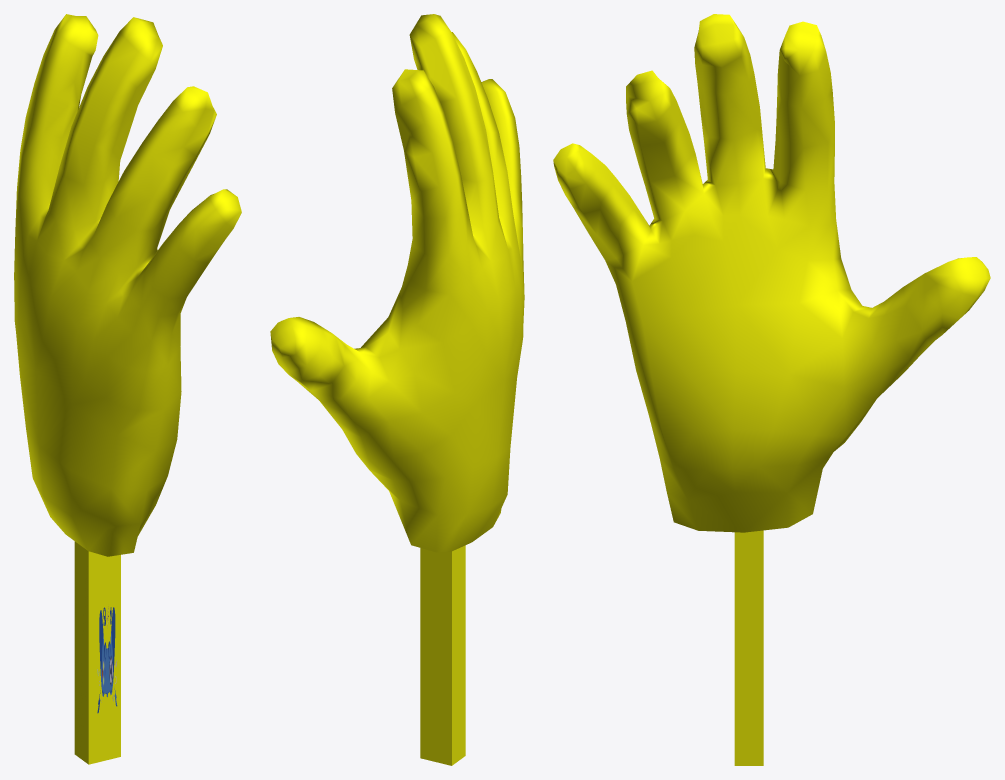
File: Slap_11.obj
3 renders of one model, left to right at view 1: azimuth 30°, elevation 25°; view 2: azimuth 150°, elevation 25°; view 3: azimuth 270°, elevation 25°, orthographic. The views are drawn at different scales.
Parts seen in each view (by area): view 1: Handle1, Stick1, Stick2; view 2: Handle1, Stick1; view 3: Handle1, Stick1.
Part boxes in pixels (bbox=[...]): Handle1: bbox=[14, 14, 241, 556]; Stick1: bbox=[74, 541, 120, 764]; Stick2: bbox=[97, 606, 117, 713]; Handle1: bbox=[270, 14, 524, 552]; Stick1: bbox=[420, 545, 465, 765]; Handle1: bbox=[553, 14, 990, 532]; Stick1: bbox=[734, 530, 763, 765].
Size of the model in its own units: 0.916 by 4.7 by 2.46.
Materials: 2 (1 with a texture image).
